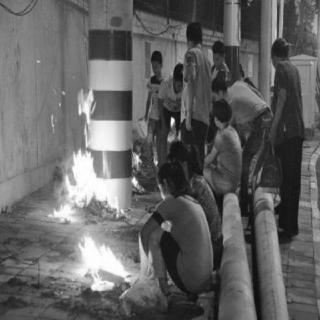Fire: (49, 81, 125, 223), (72, 232, 132, 292), (130, 142, 144, 198), (168, 115, 176, 127), (152, 153, 158, 165)
other: (119, 278, 167, 312), (89, 31, 133, 63), (92, 146, 130, 180), (261, 138, 280, 192), (94, 92, 130, 120)
